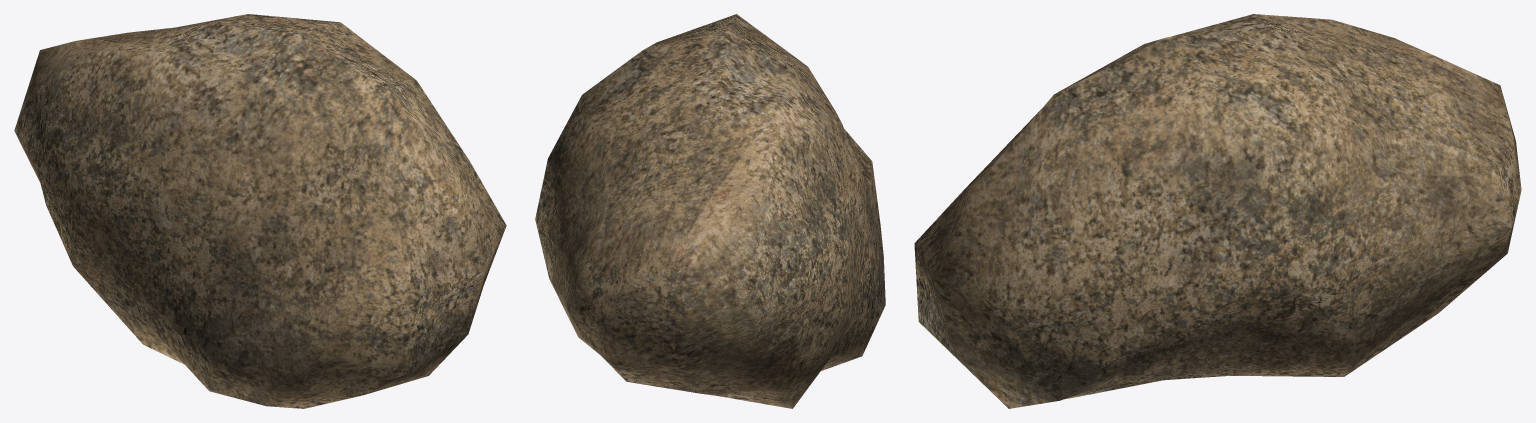
Rendered from Stone_5.obj.
The picture shows the model from 3 angles, left to right: view 1: azimuth 30°, elevation 25°; view 2: azimuth 150°, elevation 25°; view 3: azimuth 270°, elevation 25°; orthographic projection. The views are drawn at different scales.
Visible parts, largest first — view 1: Stone_5_Stone.004; view 2: Stone_5_Stone.004; view 3: Stone_5_Stone.004.
Boxes of the visible parts, x1,y1,x2,y2 form: Stone_5_Stone.004: (14,14,506,408); Stone_5_Stone.004: (535,14,885,408); Stone_5_Stone.004: (914,14,1521,408).
Bounding box in the file's own units: 0.4257 × 0.4392 × 0.6511.
Materials: 1 (1 with a texture image).
